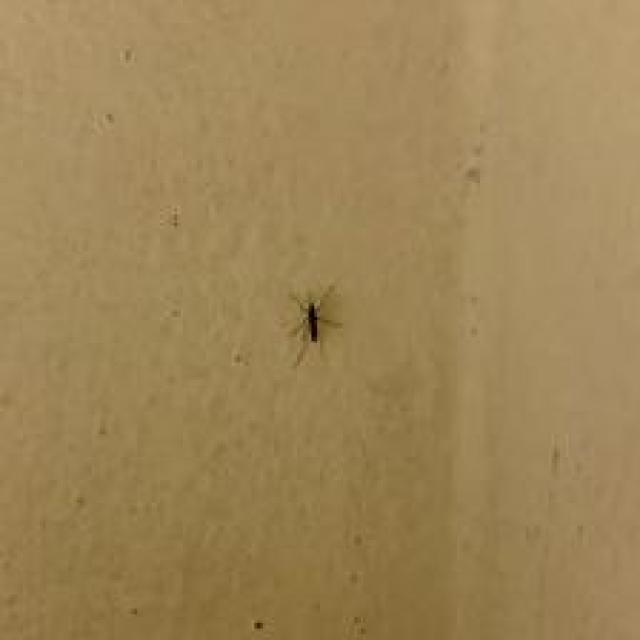Culex: (286, 283, 343, 368)
